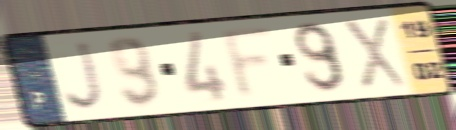4: (181, 27, 230, 106)
9: (293, 18, 348, 98), (107, 33, 163, 111)
F: (219, 22, 278, 103)
J: (63, 38, 108, 114)
X: (339, 15, 410, 92)
